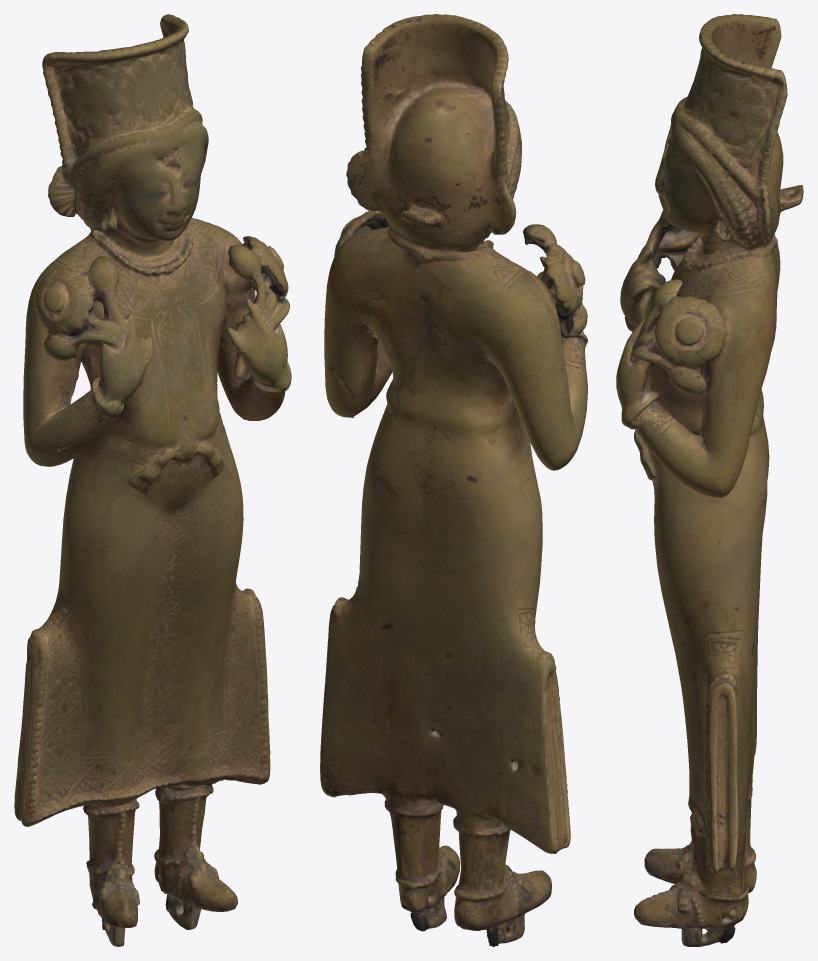
File: surya_statue.glb
3 views of the same model, side by side, from view 1: azimuth 30°, elevation 25°; view 2: azimuth 150°, elevation 25°; view 3: azimuth 270°, elevation 25° (orthographic). The views are drawn at different scales.
Parts seen in each view (by area): view 1: Object_2; view 2: Object_2; view 3: Object_2.
Part boxes in pixels (left/top/right/bottom): Object_2: left=14, top=14, right=291, bottom=946; Object_2: left=320, top=14, right=587, bottom=946; Object_2: left=616, top=14, right=803, bottom=946.
Size of the model in its own units: 0.1479 by 0.5214 by 0.0986.
Materials: 1 (1 with a texture image).
